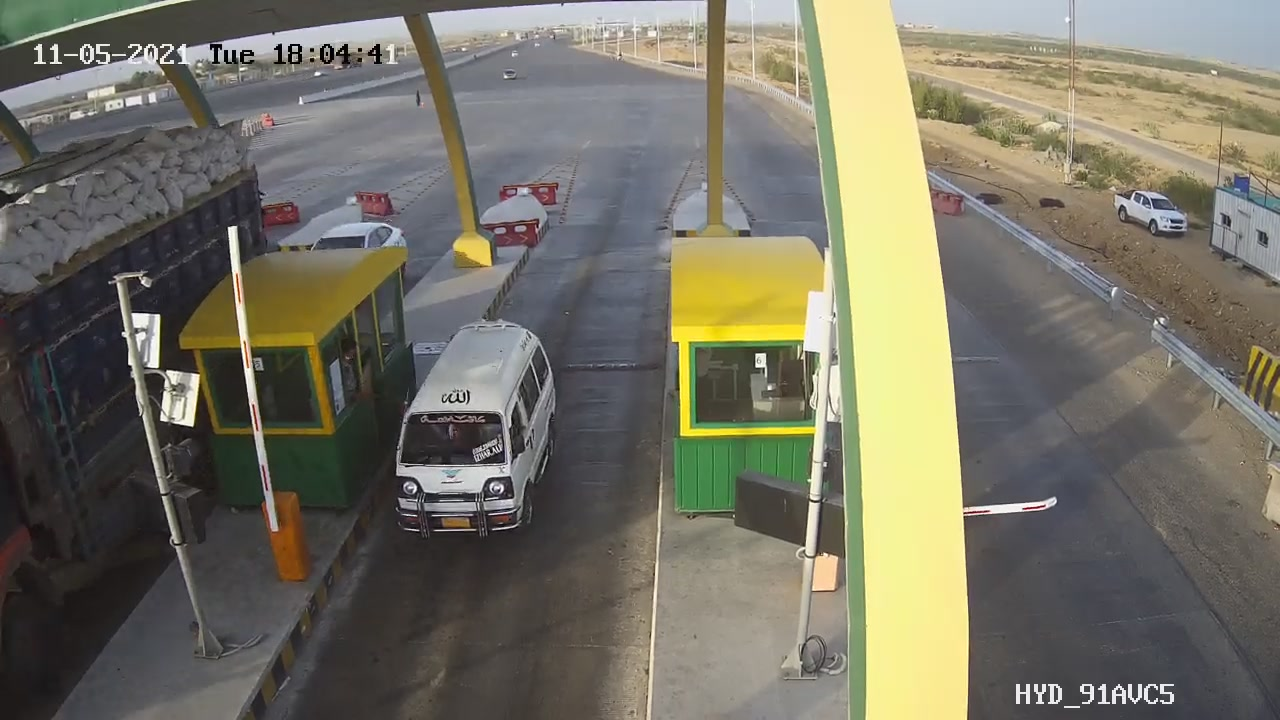F1: (373, 307, 581, 555)
